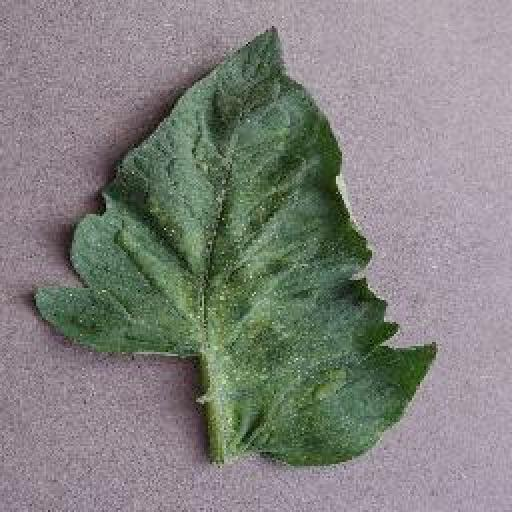disease_tomato: (30, 23, 440, 469)
